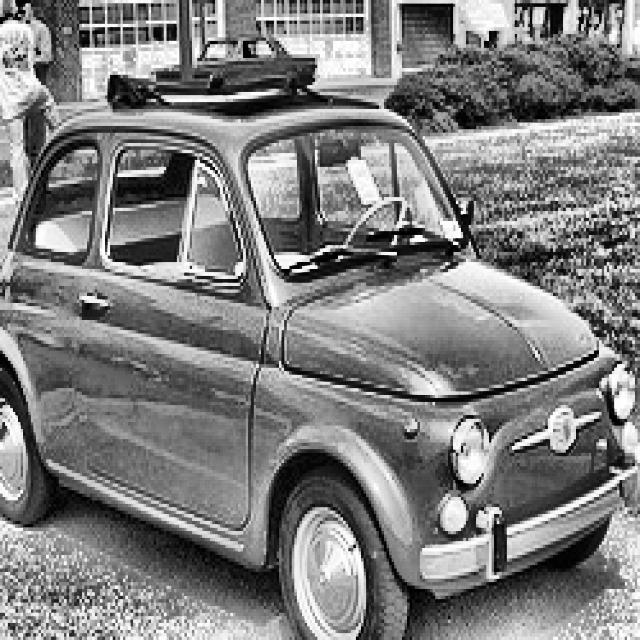light_vehicle: (0, 64, 640, 640), (156, 34, 323, 85)
